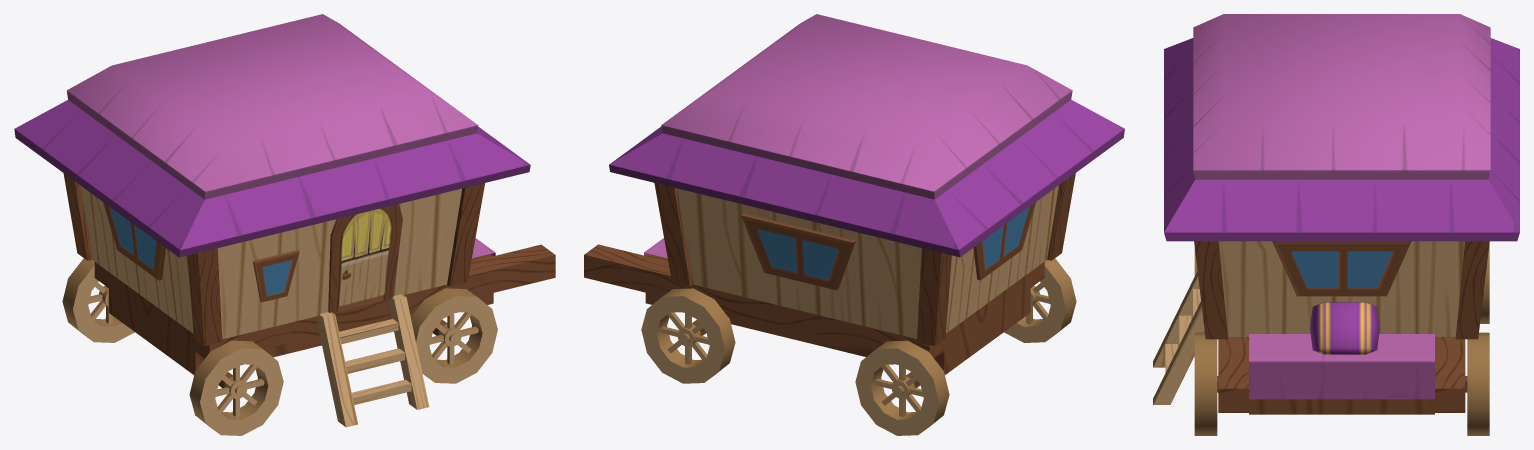
File: building_Accessories_lv1.FBX
3 views of the same model, side by side, from view 1: azimuth 30°, elevation 25°; view 2: azimuth 150°, elevation 25°; view 3: azimuth 270°, elevation 25° (orthographic). The views are drawn at different scales.
Parts seen in each view (by area): view 1: building_Accessories_roof_lv1, building_Accessories_etc01_lv1, building_Accessories_lv1; view 2: building_Accessories_roof_lv1, building_Accessories_etc01_lv1, building_Accessories_lv1; view 3: building_Accessories_roof_lv1, building_Accessories_etc01_lv1, building_Accessories_lv1.
Boxes of the visible parts, x1,y1,x2,y2 form: building_Accessories_roof_lv1: (14,14,530,257); building_Accessories_etc01_lv1: (62,173,555,435); building_Accessories_lv1: (80,185,461,339); building_Accessories_roof_lv1: (609,14,1124,257); building_Accessories_etc01_lv1: (584,173,1076,435); building_Accessories_lv1: (677,185,1058,338); building_Accessories_roof_lv1: (1164,14,1519,241); building_Accessories_etc01_lv1: (1153,241,1489,435); building_Accessories_lv1: (1218,241,1464,336).
Size of the model in its own units: 395 by 265 by 292.
